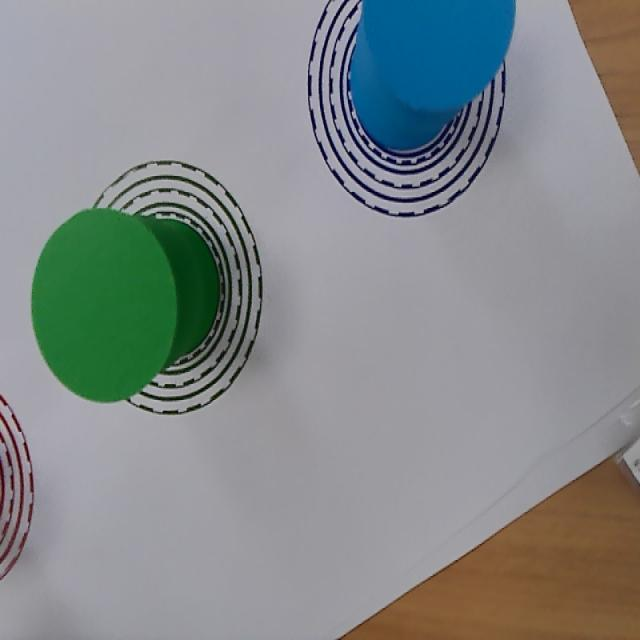g: (31, 208, 177, 402)
